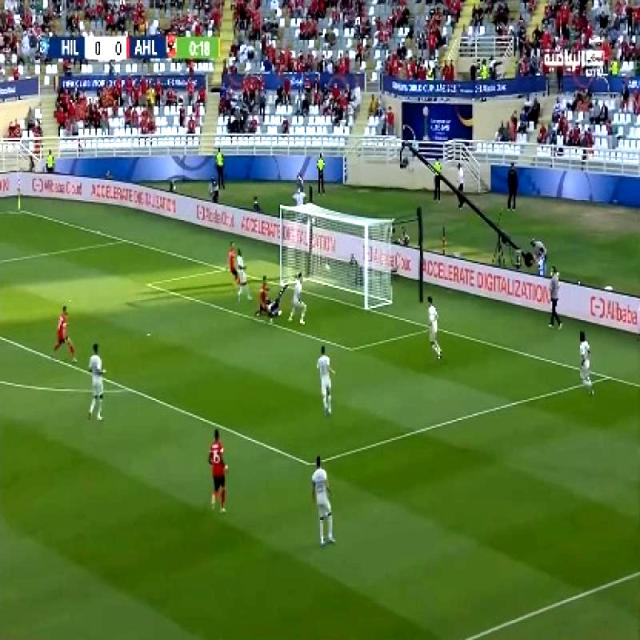bigarea_bottom_inner: (298, 452, 317, 472)
bigarea_bottom_outter: (595, 364, 617, 388)
bigarea_top_outter: (116, 230, 132, 248)
bottom_arc_area_intersection: (117, 377, 137, 400)
corner: (9, 202, 28, 215)
smallarea_bottom_inner: (342, 337, 360, 358)
smallarea_top_inner: (137, 274, 160, 294)
smallarea_top_outter: (214, 260, 228, 275)
